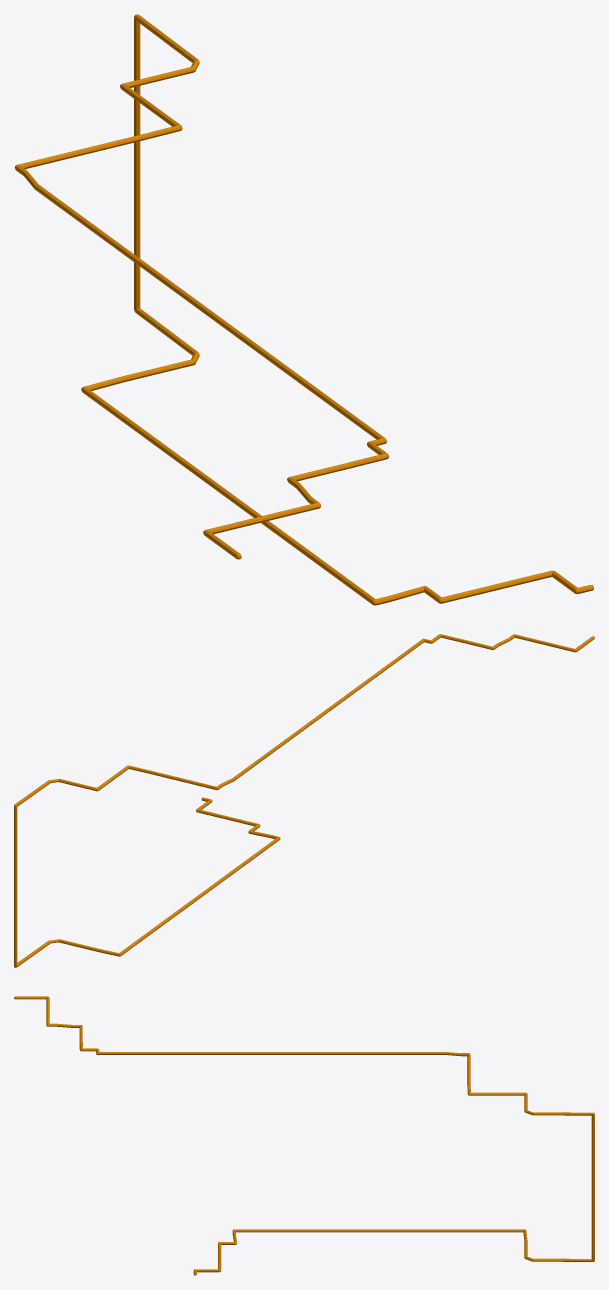
The picture shows the model from 3 angles, top to bottom: view 1: azimuth 30°, elevation 25°; view 2: azimuth 150°, elevation 25°; view 3: azimuth 270°, elevation 25°; orthographic projection. The views are drawn at different scales.
Bounding box in the file's own units: 1923 × 1020 × 3598.
